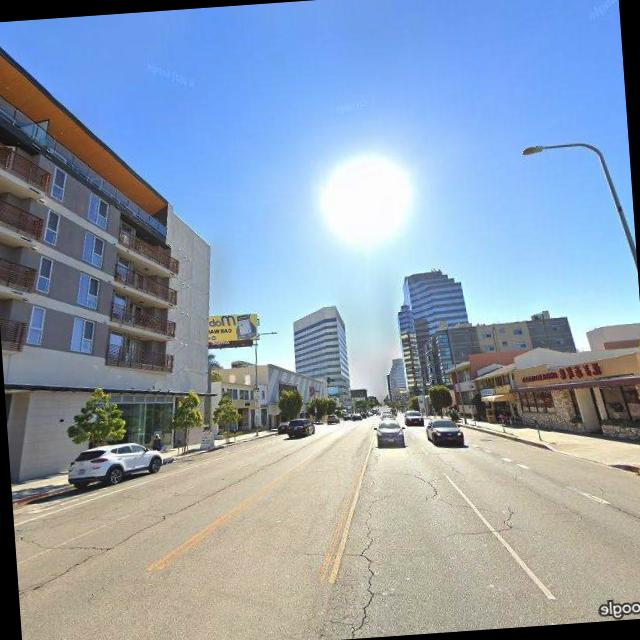crack: (337, 488, 391, 637), (518, 472, 588, 526), (15, 523, 113, 560), (402, 464, 468, 516), (600, 488, 640, 532), (499, 502, 519, 531)
